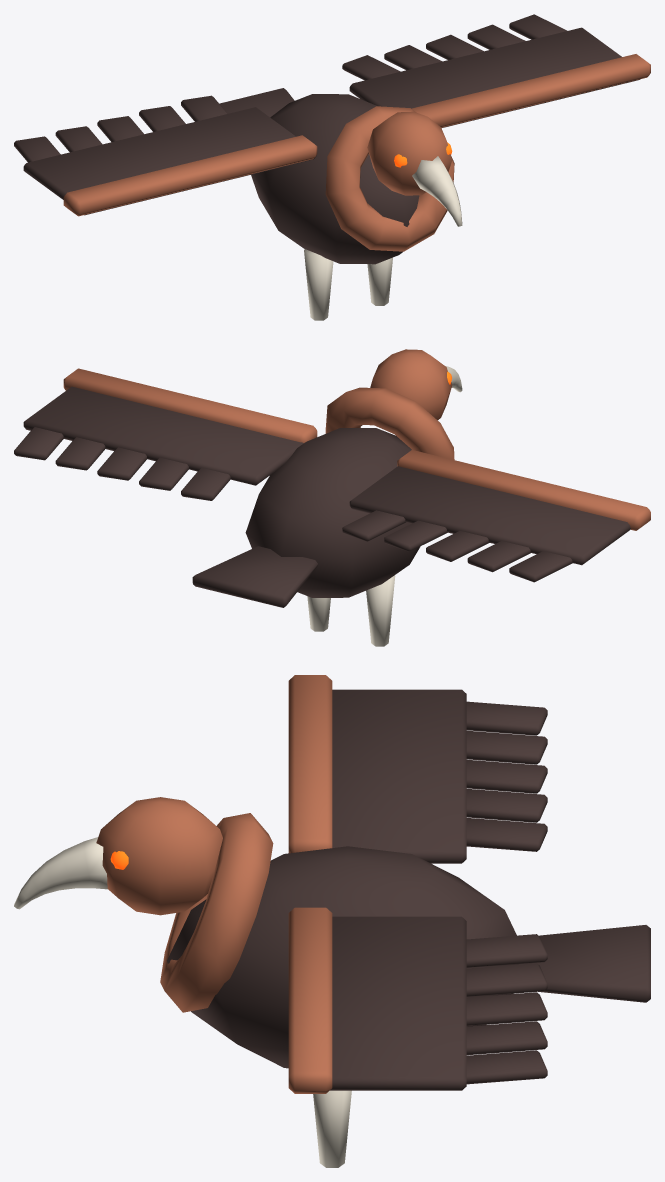
Rendered from sky_harpy.glb.
The picture shows the model from 3 angles, top to bottom: view 1: azimuth 30°, elevation 25°; view 2: azimuth 150°, elevation 25°; view 3: azimuth 270°, elevation 25°; orthographic projection. The views are drawn at different scales.
Visible parts, largest first — view 1: LeftWing, RightWing, Body, Head, LeftLeg, Tail, RightLeg; view 2: LeftWing, RightWing, Body, Tail, Head, LeftLeg, RightLeg; view 3: RightWing, LeftWing, Body, Head, Tail, RightLeg.
Boxes of the visible parts, x1,y1,x2,y2 form: LeftWing: [14, 95, 317, 216]; RightWing: [342, 14, 650, 128]; Body: [251, 94, 454, 264]; Head: [367, 111, 462, 226]; LeftLeg: [304, 249, 333, 320]; Tail: [219, 88, 294, 117]; RightLeg: [367, 257, 392, 305]; LeftWing: [342, 450, 650, 582]; RightWing: [14, 368, 317, 500]; Body: [245, 387, 454, 597]; Tail: [192, 546, 317, 607]; Head: [370, 349, 462, 420]; LeftLeg: [366, 575, 395, 646]; RightLeg: [307, 596, 330, 631]; RightWing: [288, 907, 547, 1093]; LeftWing: [288, 675, 547, 863]; Body: [160, 813, 518, 1068]; Head: [14, 797, 222, 915]; Tail: [519, 925, 650, 1002]; RightLeg: [313, 1090, 351, 1167].
Bounding box in the file's own units: 3.04 × 1.2 × 2.04.
